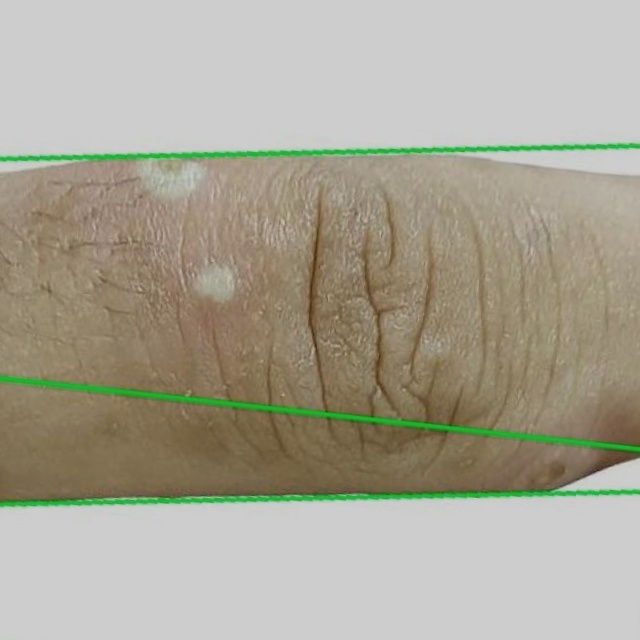Scabies: (0, 146, 639, 505), (0, 379, 639, 639)
